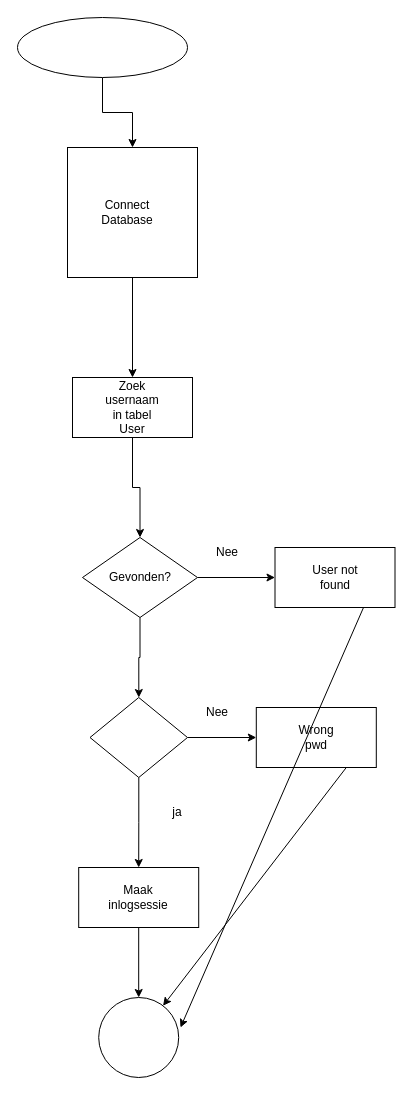
The diagram is 413 pixels wide and 1095 high, and some of its shapes have lost their labels. The centre of each missing label's shape, as x and y in pixels:
"end" goes at point 138,1037.
"Is ingevoerd pwd = pwd_db" goes at point 138,737.
"Start" goes at point 102,47.
